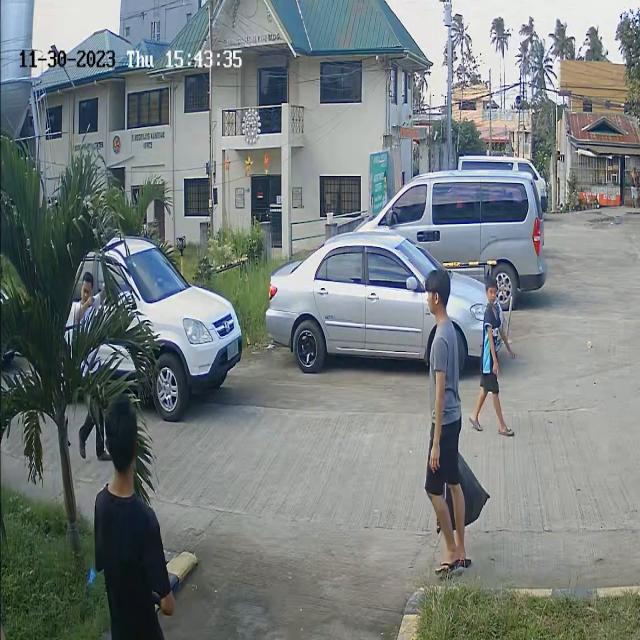person: (418, 273, 464, 433), (66, 265, 98, 316), (483, 278, 503, 349)
